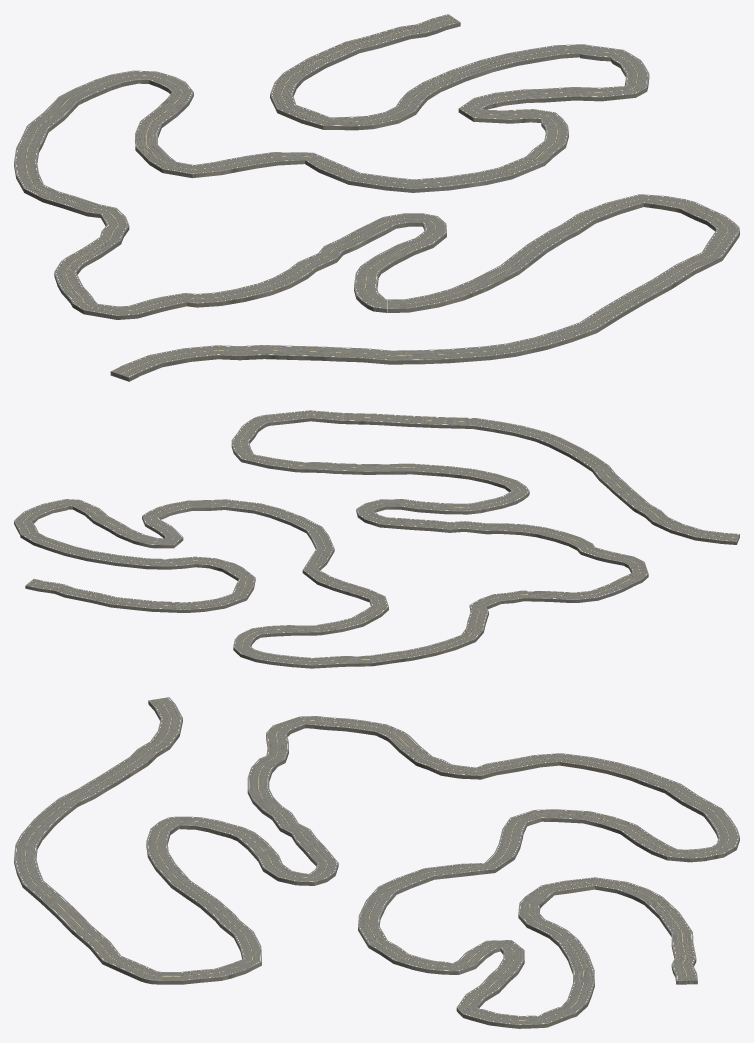
Rendered from map.fbx.
The picture shows the model from 3 angles, top to bottom: view 1: azimuth 30°, elevation 25°; view 2: azimuth 150°, elevation 25°; view 3: azimuth 270°, elevation 25°; orthographic projection. The views are drawn at different scales.
Parts seen in each view (by area): view 1: map6, map1, map5, map3, map4, map2; view 2: map6, map1, map5, map3, map4, map2; view 3: map6, map5, map1, map4, map3, map2.
Boxes of the visible parts, x1=… form: map6: x1=270, y1=14, x2=649, y2=130; map1: x1=110, y1=230, x2=739, y2=381; map5: x1=135, y1=82, x2=568, y2=192; map3: x1=72, y1=213, x2=446, y2=319; map4: x1=14, y1=70, x2=185, y2=306; map2: x1=388, y1=194, x2=739, y2=312; map6: x1=14, y1=499, x2=255, y2=612; map1: x1=265, y1=410, x2=739, y2=544; map5: x1=142, y1=499, x2=388, y2=639; map3: x1=356, y1=486, x2=648, y2=582; map4: x1=233, y1=575, x2=642, y2=668; map2: x1=231, y1=415, x2=526, y2=491; map6: x1=456, y1=877, x2=697, y2=1028; map5: x1=358, y1=809, x2=689, y2=974; map1: x1=14, y1=697, x2=182, y2=981; map4: x1=314, y1=716, x2=739, y2=862; map3: x1=159, y1=716, x2=338, y2=885; map2: x1=140, y1=821, x2=261, y2=984.
Bounding box in the file's own units: 869 × 4.71 × 813.
Materials: 1 (1 with a texture image).
